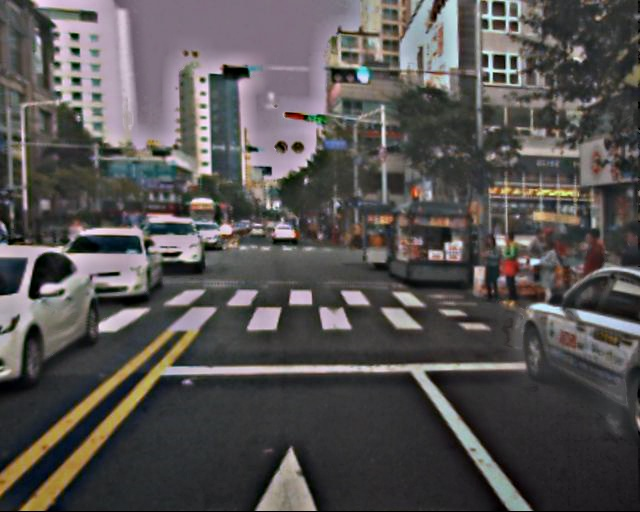person: (601, 225, 640, 343), (570, 226, 614, 325), (532, 242, 566, 321), (493, 235, 527, 313), (529, 227, 560, 303), (477, 234, 507, 306)
